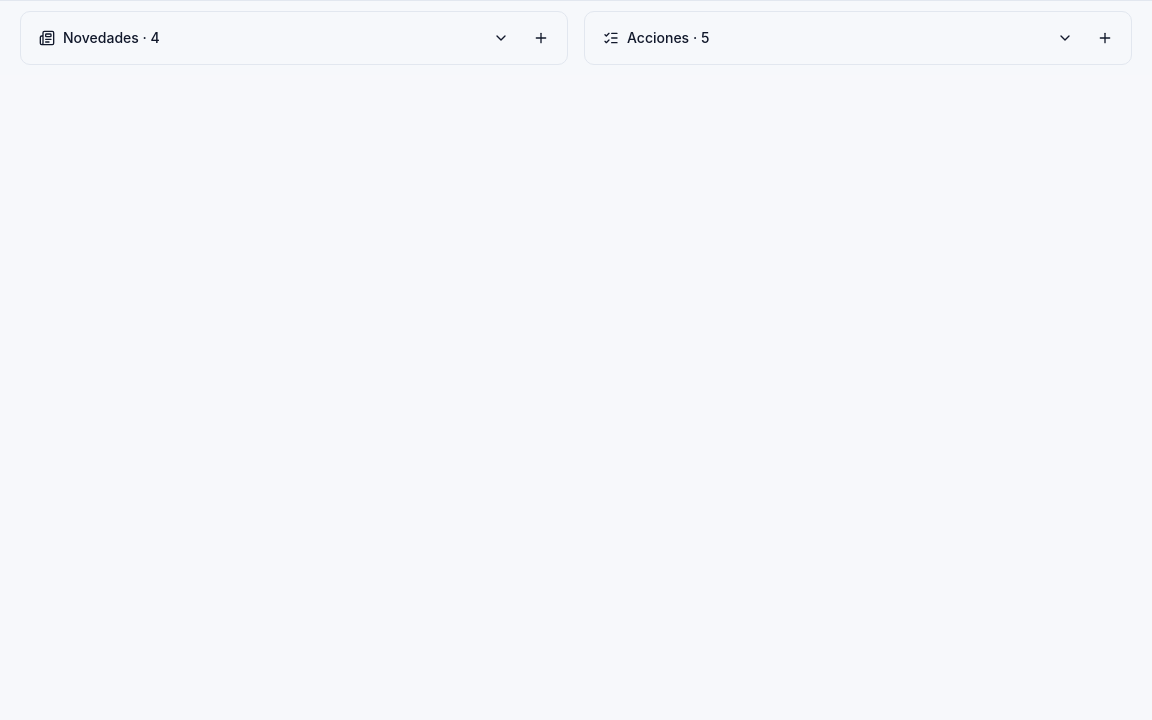
Test case: CasePortfolioFollowUp › opens a contextual action sheet and hides creation for archived cases
Click the button named "Añadir acción" at (1105, 38), box [1087,20,1123,56]
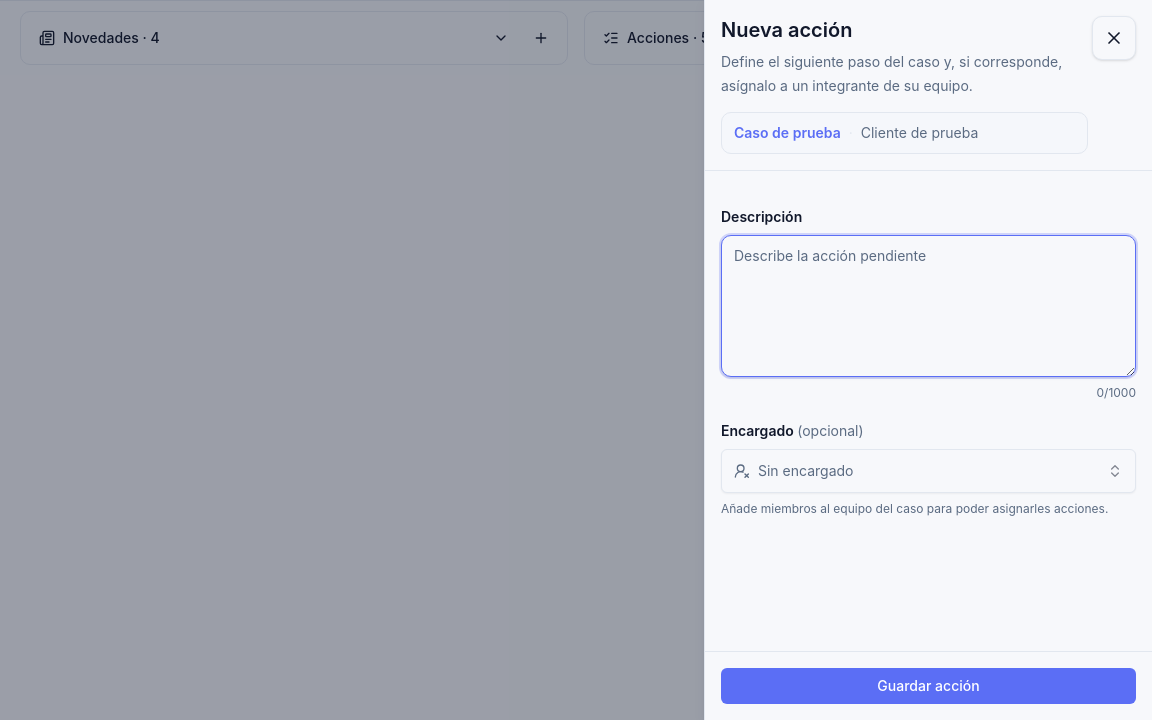
Result: the heading "Nueva acción" is shown at [721,18,852,42]
Result: the element named "Contexto del caso" shows "Caso de prueba" at [734,123,841,143]
